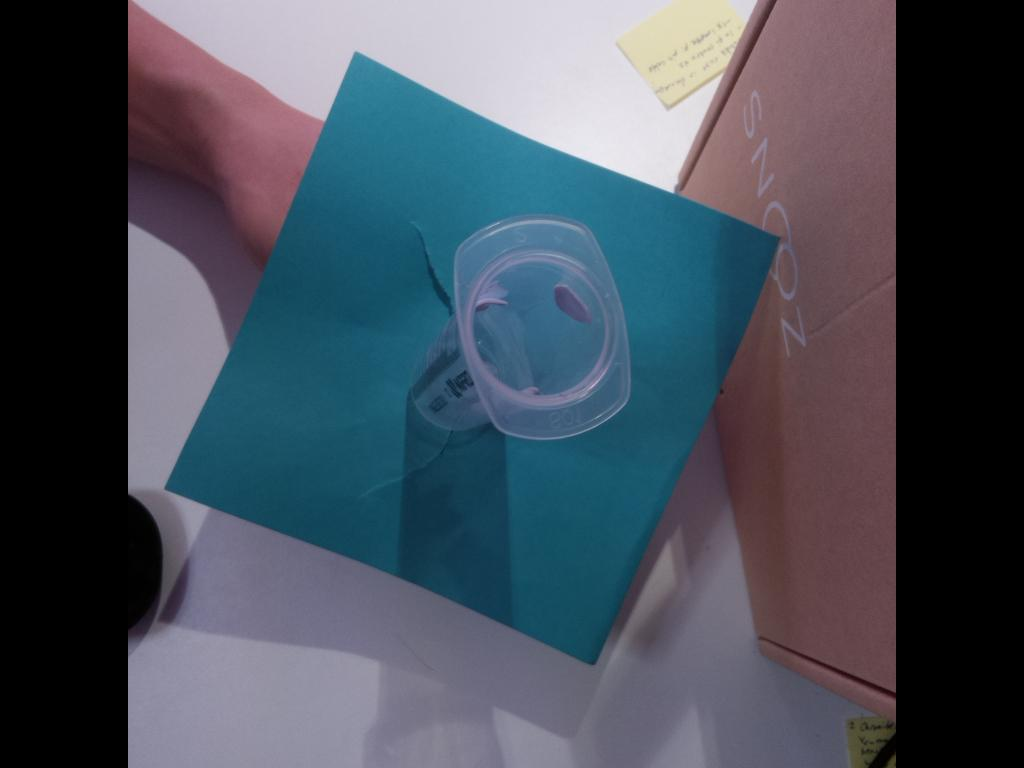dirty: (453, 212, 632, 440)
